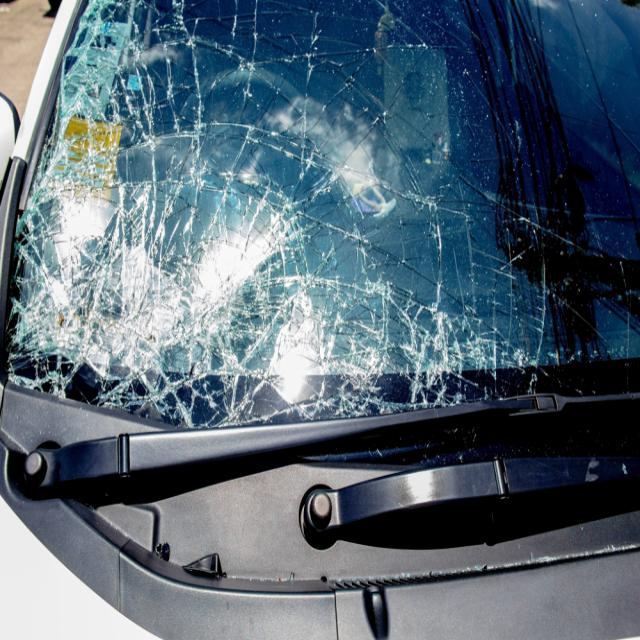glass shatter: (7, 0, 640, 428)
